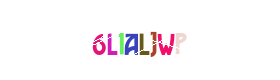1: (91, 0, 171, 80)
6: (74, 0, 154, 80)
A: (97, 0, 177, 80)
J: (100, 0, 180, 80)
L: (81, 0, 161, 80), (97, 0, 177, 80)
P: (114, 0, 194, 80)
W: (108, 0, 188, 80)
